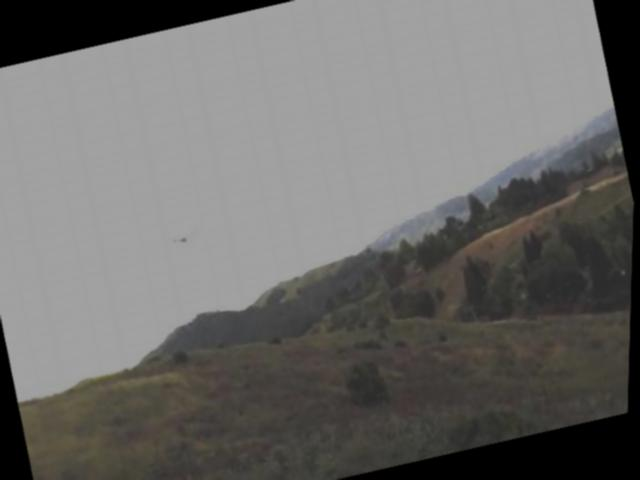iha: (158, 218, 214, 252)
